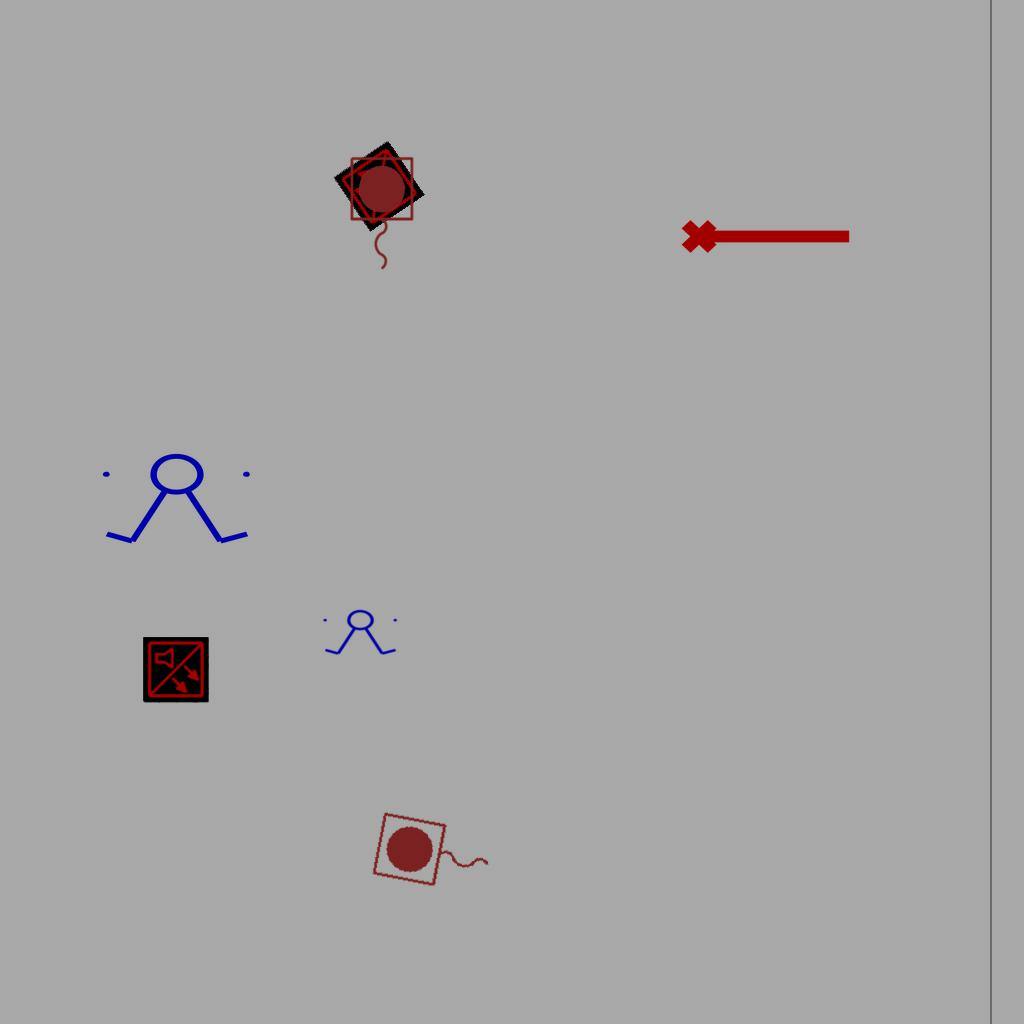ASR_Ansaugoeffnung: (679, 211, 855, 257)
OKW_Multisensormelder_(Kombination_optischer_Rauch-Kahlenmonoxid_Waerme-Melder): (333, 140, 425, 232), (143, 637, 209, 703)
Serienschalter: (94, 452, 262, 548), (319, 609, 403, 657)
Zugtaster: (367, 808, 501, 902), (345, 153, 417, 275)
